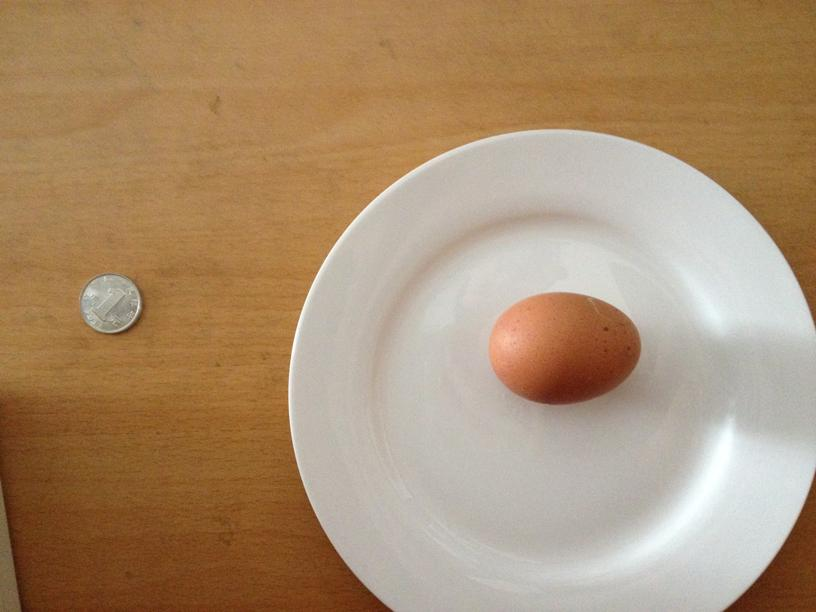coin: (79, 270, 142, 337)
egg: (489, 288, 640, 404)
